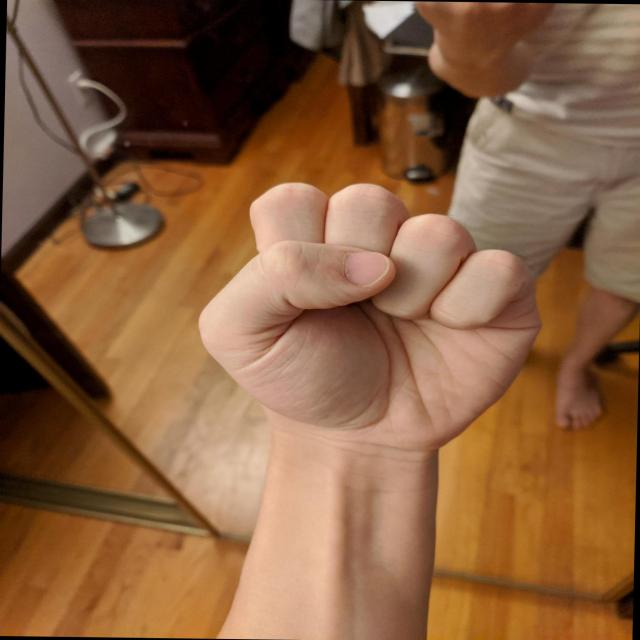S: (184, 175, 552, 460)
